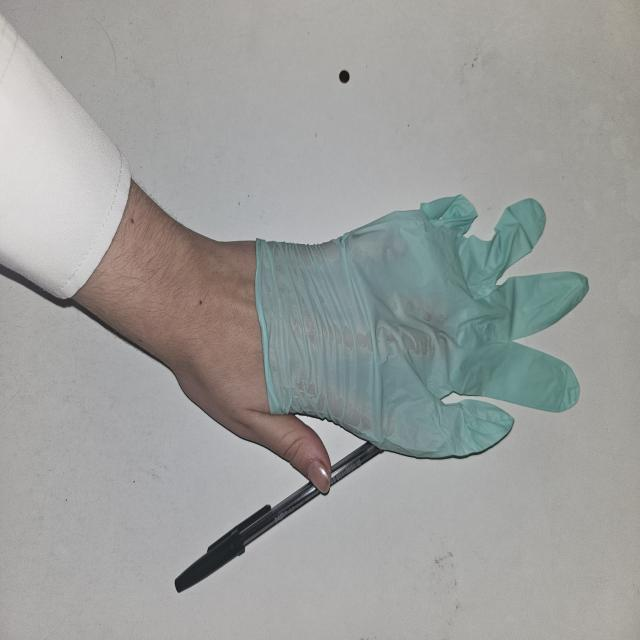glove_partial: (172, 193, 590, 495)
